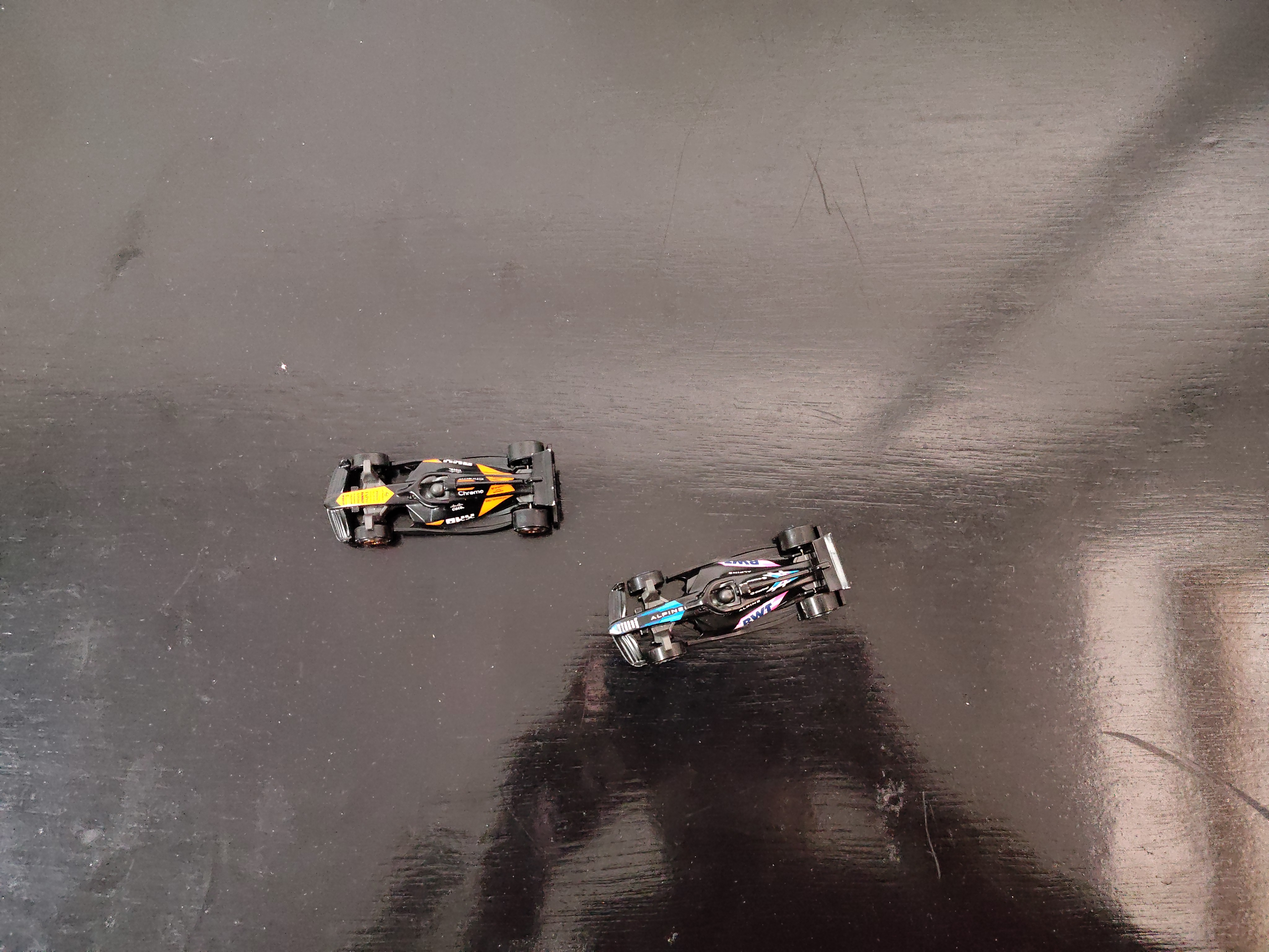Alpine A524: (561, 535, 929, 674)
McLaren MCL40: (290, 420, 575, 550)
